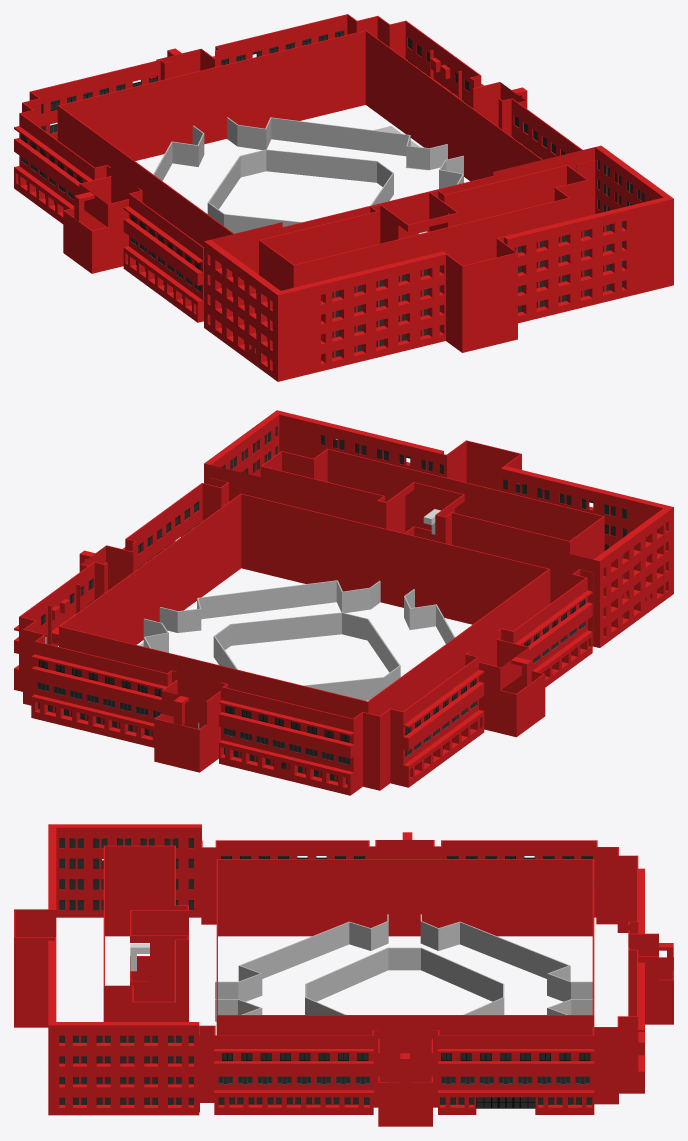
The picture shows the model from 3 angles, top to bottom: view 1: azimuth 30°, elevation 25°; view 2: azimuth 150°, elevation 25°; view 3: azimuth 270°, elevation 25°; orthographic projection. The views are drawn at different scales.
Visible parts, largest first — view 1: Screenshot (4545).007, Screenshot (4545), Screenshot (4545).011, Screenshot (4545).001, groundfloorwindor.018, groundfloorwindor.019; view 2: Screenshot (4545), Screenshot (4545).007, Screenshot (4545).011, Screenshot (4545).001, firstfloorwindor.007, groundfloorwindor.018, firstfloorwindor.006, groundfloorwindor.019, secfloorwindow.008, secfloorwindow.007; view 3: Screenshot (4545), Screenshot (4545).007, Screenshot (4545).011, Screenshot (4545).001, groundfloorwindor.016, groundfloorwindor.017, firstfloorwindor.010, firstfloorwindor.011, groundfloorwindor.015, secfloorwindow.006, secfloorwindow.011, groundfloorwindor.028.
Part boxes in pixels (x1,y1,x2,y2): Screenshot (4545).007: (204, 145, 673, 381); Screenshot (4545): (14, 23, 595, 322); Screenshot (4545).011: (19, 14, 595, 256); Screenshot (4545).001: (153, 117, 463, 233); groundfloorwindor.018: (332, 269, 428, 357); groundfloorwindor.019: (514, 224, 610, 312); Screenshot (4545): (14, 491, 593, 795); Screenshot (4545).007: (204, 410, 673, 647); Screenshot (4545).011: (19, 478, 593, 727); Screenshot (4545).001: (143, 580, 454, 728); firstfloorwindor.007: (223, 728, 350, 765); groundfloorwindor.018: (515, 482, 615, 550); firstfloorwindor.006: (37, 682, 161, 717); groundfloorwindor.019: (333, 438, 432, 471); secfloorwindow.008: (225, 706, 349, 742); secfloorwindow.007: (39, 660, 161, 696); Screenshot (4545): (199, 840, 673, 1126); Screenshot (4545).007: (14, 824, 201, 1115); Screenshot (4545).011: (199, 840, 638, 1044); Screenshot (4545).001: (215, 914, 592, 1021); groundfloorwindor.016: (73, 1035, 181, 1104); groundfloorwindor.017: (69, 838, 178, 910); firstfloorwindor.010: (218, 1076, 370, 1084); firstfloorwindor.011: (441, 1076, 589, 1084); groundfloorwindor.015: (229, 1097, 358, 1104); secfloorwindow.006: (441, 1053, 590, 1060); secfloorwindow.011: (222, 1053, 368, 1060); groundfloorwindor.028: (59, 838, 193, 910).
Size of the model in its own units: 7926 by 1465 by 9735.
